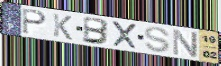B: (82, 16, 112, 46)
K: (52, 12, 73, 42)
N: (172, 27, 200, 59)
P: (21, 7, 48, 36)
S: (143, 26, 172, 54)
X: (111, 20, 139, 51)
